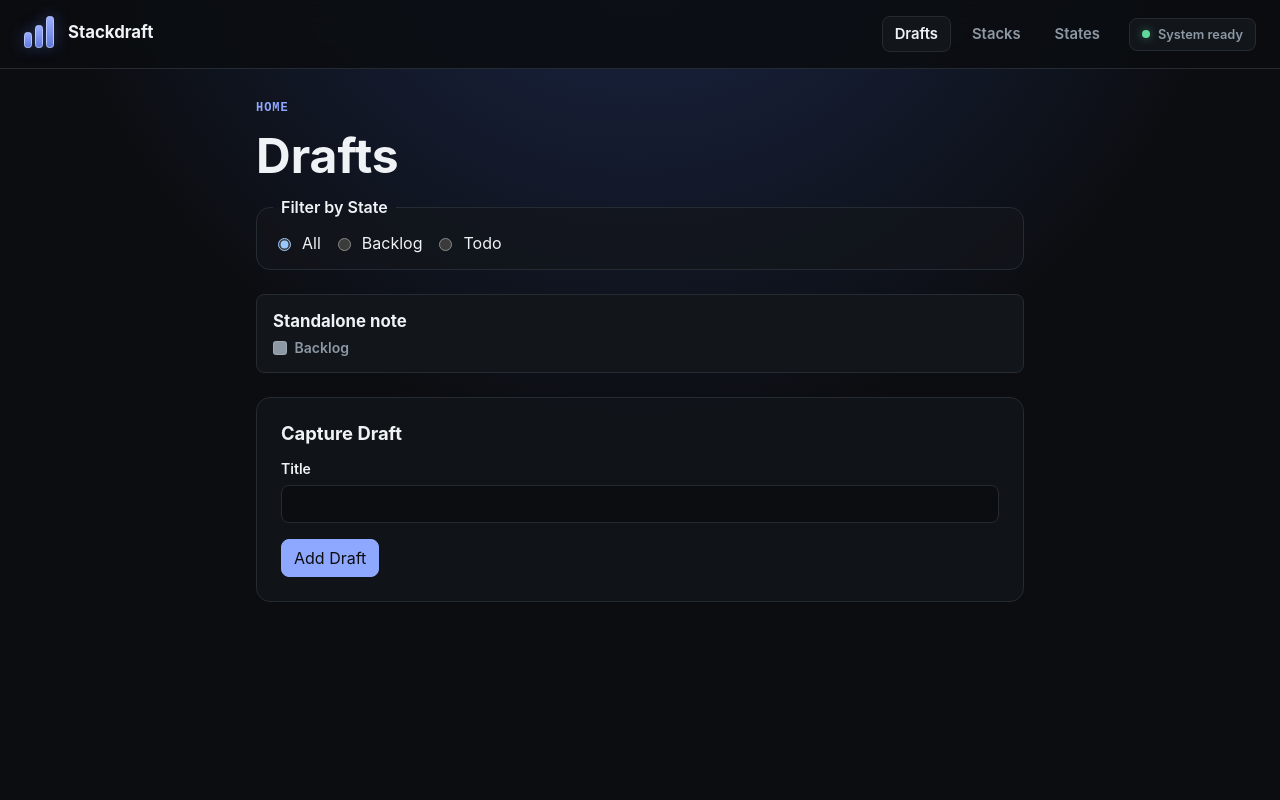
Test: draft list screen › navigates to draft detail from the global list
Click the link "Standalone note Backlog". click: (340, 334)
box: [273,311,407,356]
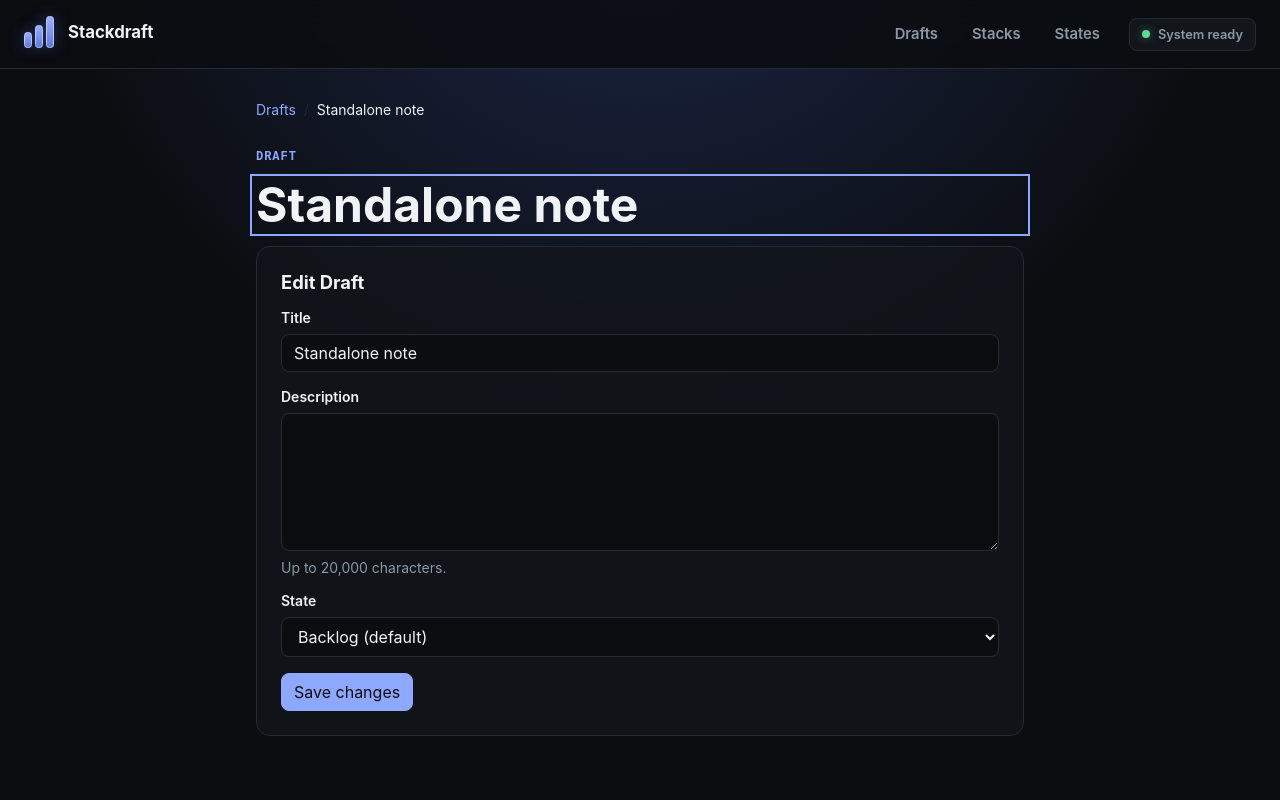
Check: the dropdown labelled "State" shows "Backlog (default)", box [281,617,999,657]
